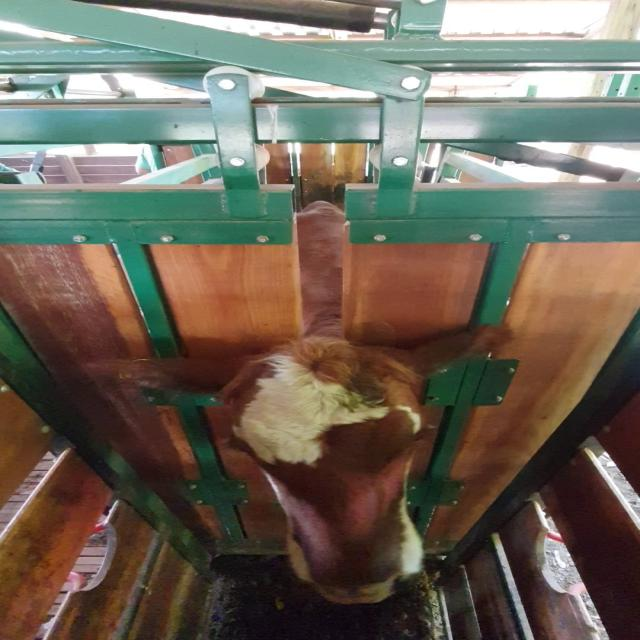cowFace: (227, 343, 419, 605)
